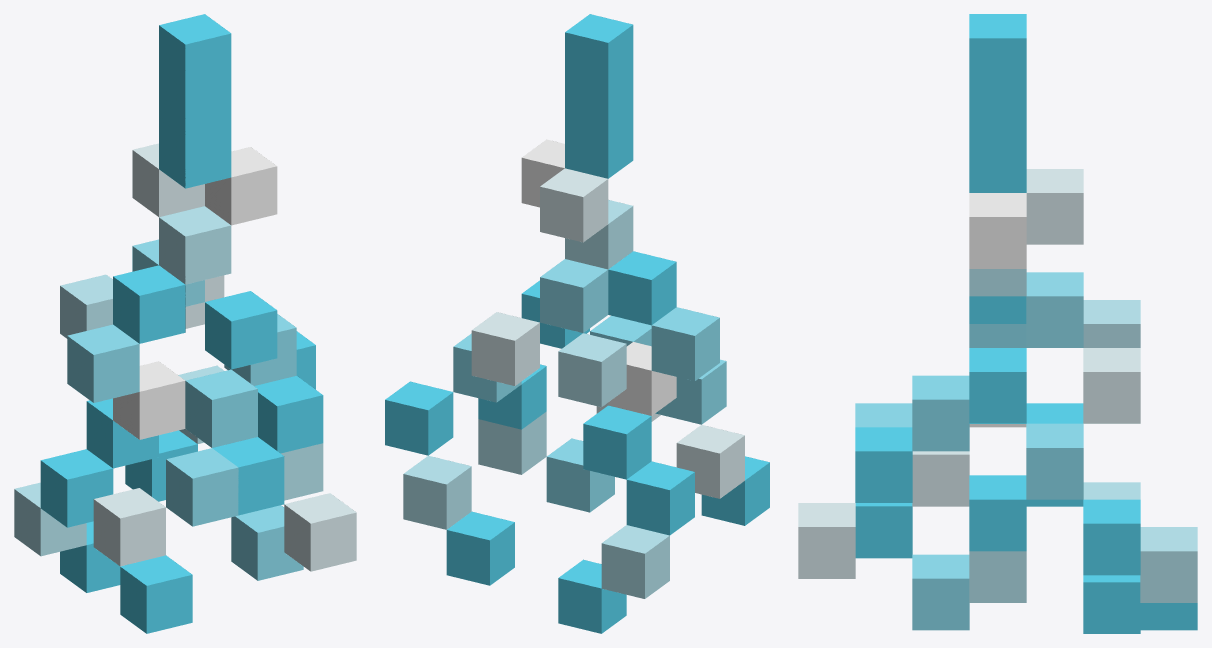
Rendered from Shaman Manual Lightning.obj.
3 renders of one model, left to right at view 1: azimuth 30°, elevation 25°; view 2: azimuth 150°, elevation 25°; view 3: azimuth 270°, elevation 25°, orthographic. The views are drawn at different scales.
Parts seen in each view (by area): view 1: Shaman Manual Lightning; view 2: Shaman Manual Lightning; view 3: Shaman Manual Lightning.
Part boxes in pixels (x1=…): Shaman Manual Lightning: x1=14, y1=14, x2=356, y2=633; Shaman Manual Lightning: x1=385, y1=14, x2=769, y2=633; Shaman Manual Lightning: x1=798, y1=14, x2=1197, y2=633.
Size of the model in its own units: 6 by 12 by 7.
1 material, 1 textured.
